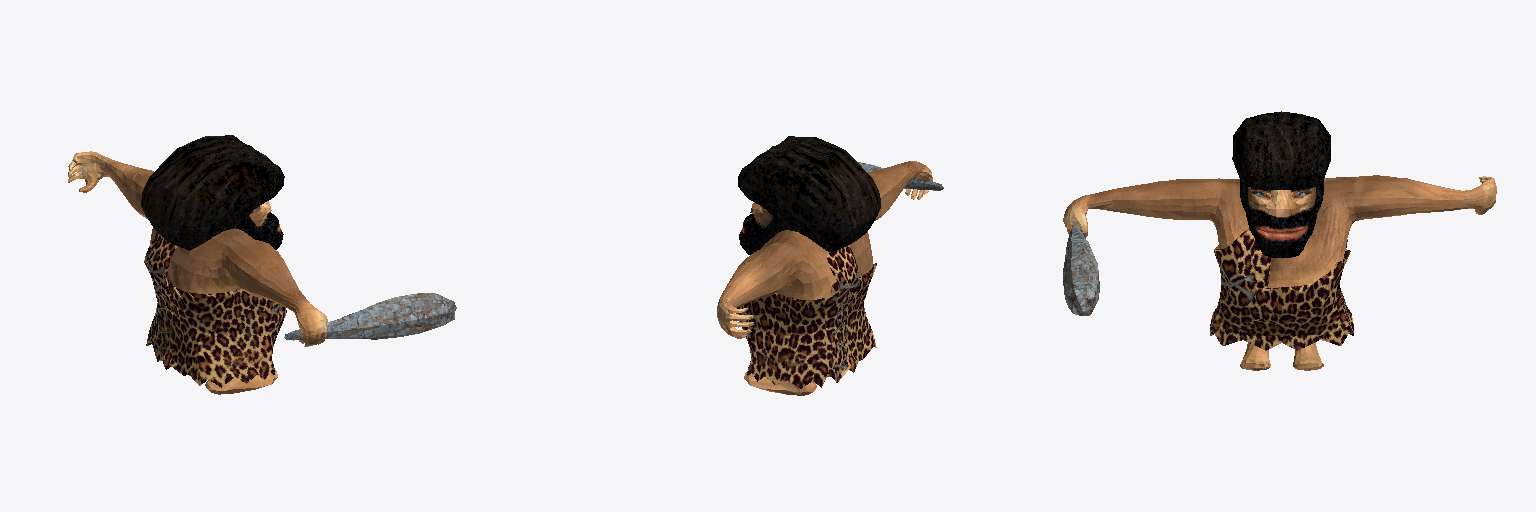
The picture shows the model from 3 angles: view 1: azimuth 30°, elevation 25°; view 2: azimuth 150°, elevation 25°; view 3: azimuth 270°, elevation 25°; orthographic projection.
Parts seen in each view (by area): view 1: CM; view 2: CM; view 3: CM.
Part boxes in pixels (bbox=[...]): CM: bbox=[68, 135, 456, 394]; CM: bbox=[717, 136, 943, 395]; CM: bbox=[1063, 111, 1496, 370].
Bounding box in the file's own units: 340 × 375 × 625.
1 materials, 1 textured.